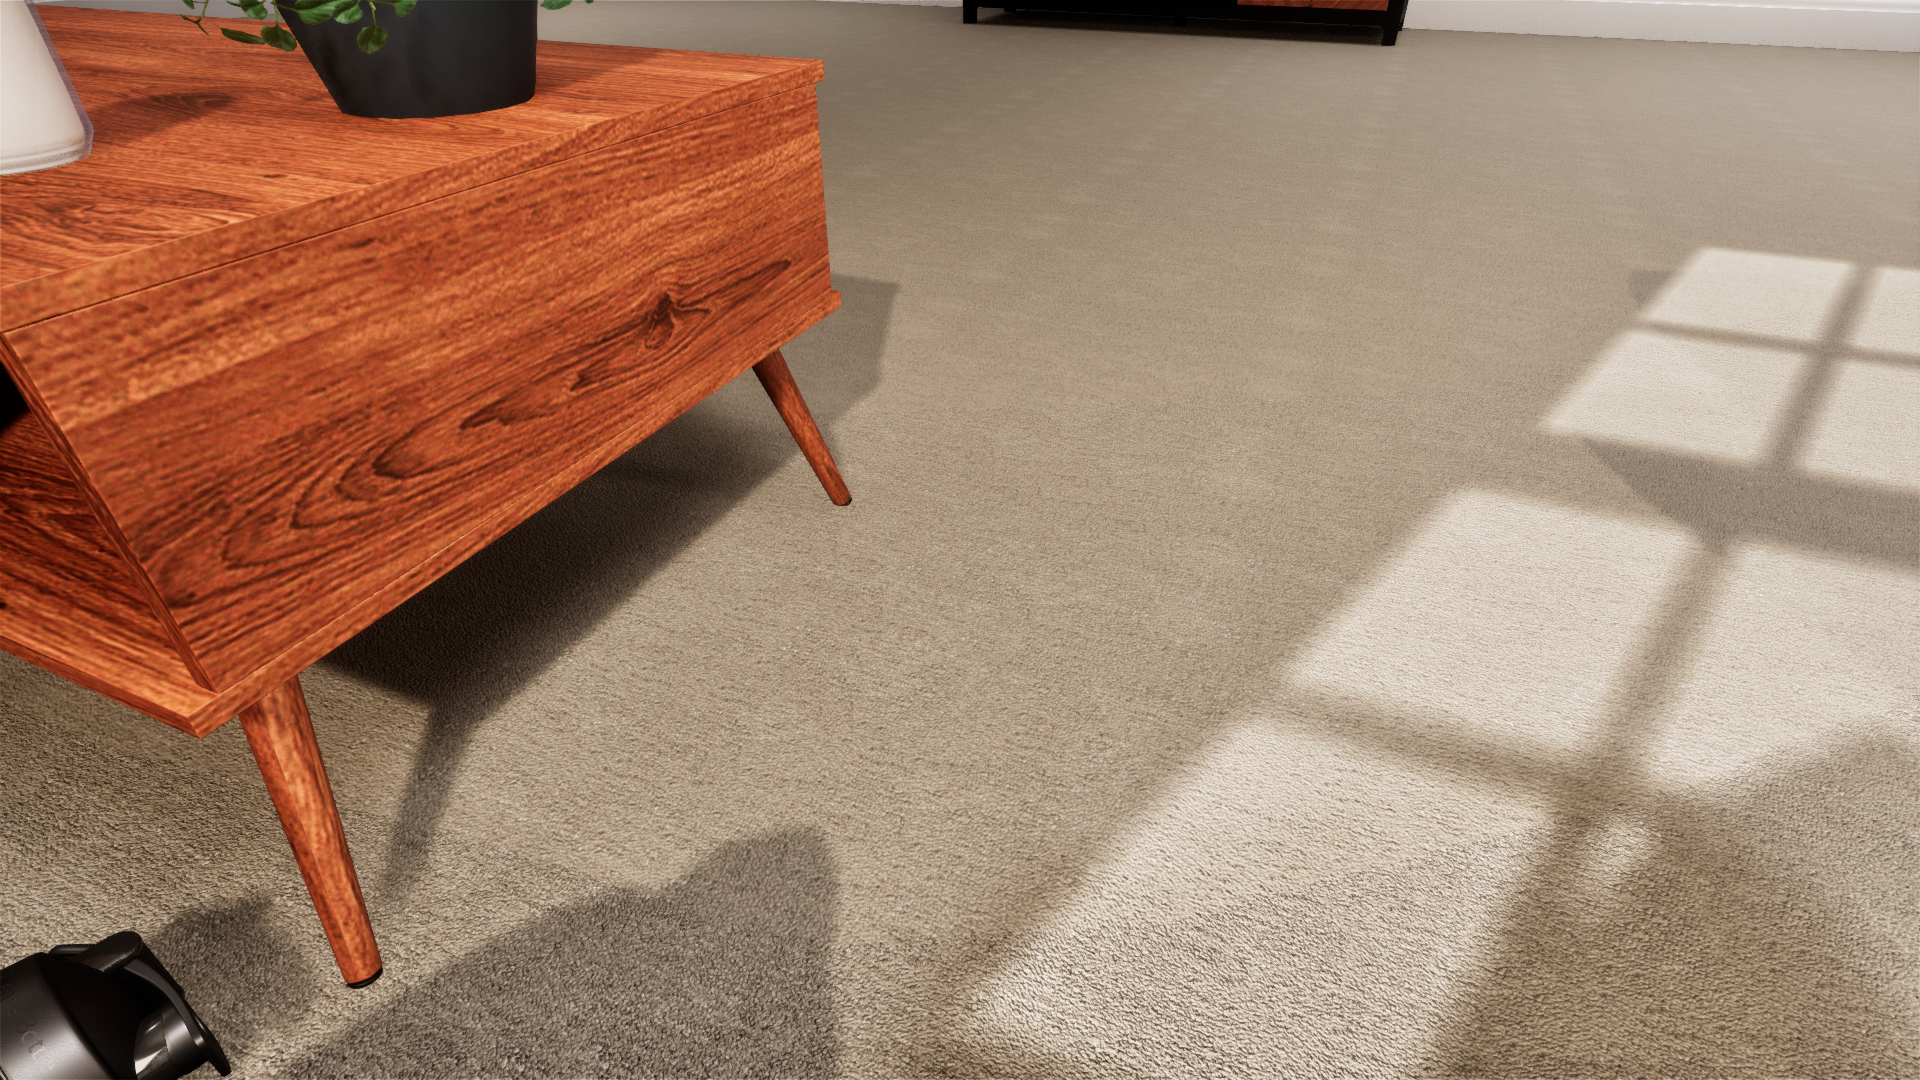cheerios: (549, 559, 715, 601)
soup: (745, 550, 796, 580)
